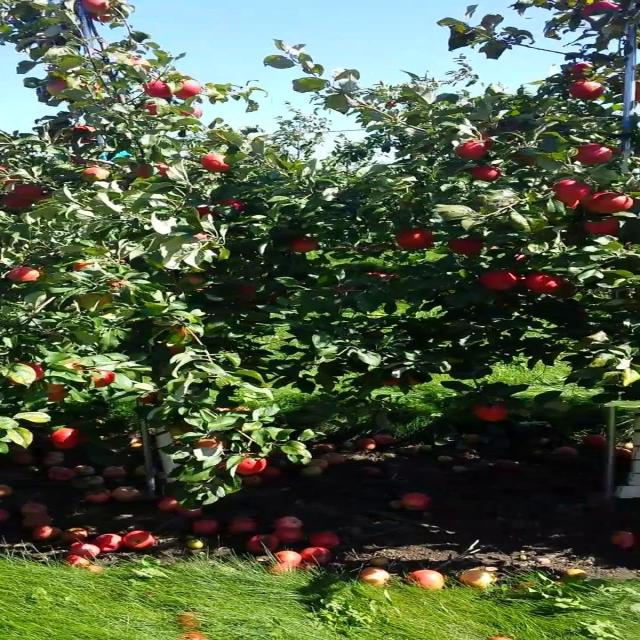apple: (582, 192, 633, 216), (554, 180, 592, 205), (575, 144, 615, 167), (397, 228, 436, 251), (525, 276, 567, 296), (568, 80, 604, 101), (476, 404, 512, 424), (483, 272, 519, 292), (234, 456, 268, 476), (582, 220, 620, 237), (15, 364, 44, 386), (454, 144, 491, 161), (141, 80, 172, 100), (447, 240, 485, 256), (134, 164, 171, 180), (56, 428, 84, 449), (582, 4, 624, 18), (177, 80, 206, 100), (6, 268, 43, 283), (13, 184, 44, 200), (70, 128, 100, 144), (205, 156, 233, 173), (84, 0, 112, 15), (77, 296, 114, 307), (476, 168, 503, 183), (92, 372, 116, 388), (291, 240, 320, 253), (6, 196, 34, 209), (84, 168, 108, 183), (49, 80, 71, 96), (220, 200, 247, 212), (49, 384, 69, 400), (127, 56, 151, 69), (198, 440, 229, 450), (575, 64, 596, 78), (511, 156, 539, 166), (70, 156, 96, 166), (404, 376, 425, 387), (141, 104, 158, 116), (184, 108, 206, 117), (198, 208, 220, 217), (106, 280, 128, 289), (483, 132, 496, 147), (170, 344, 185, 356), (184, 276, 206, 284), (383, 380, 404, 388), (241, 288, 256, 297), (177, 328, 188, 339), (99, 16, 114, 24), (141, 396, 156, 404), (6, 176, 21, 184), (70, 364, 85, 371), (518, 256, 530, 264), (77, 264, 89, 271)
